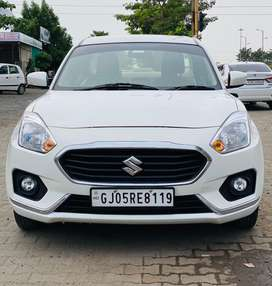GJ05RE8119: (90, 189, 173, 206)
